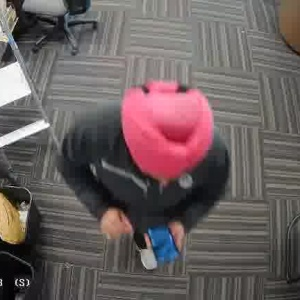person: (64, 95, 223, 259)
